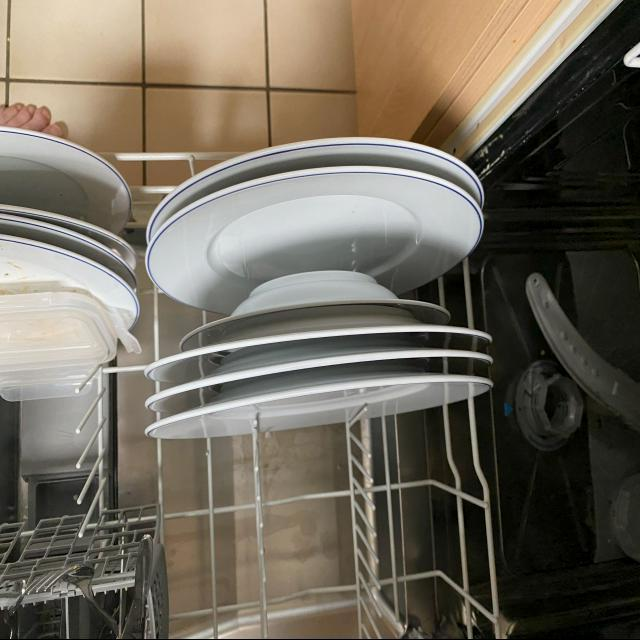empty_slot: (179, 456, 482, 631)
